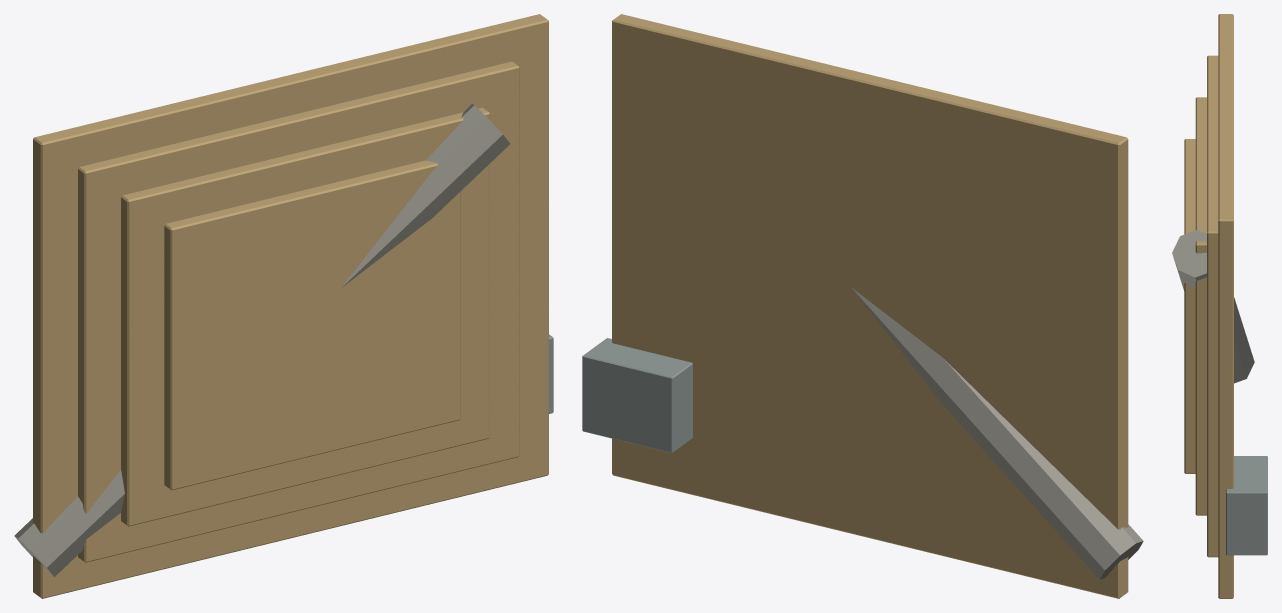
Rendered from stepped_quarry.glb.
The picture shows the model from 3 angles, left to right: view 1: azimuth 30°, elevation 25°; view 2: azimuth 150°, elevation 25°; view 3: azimuth 270°, elevation 25°; orthographic projection. The views are drawn at different scales.
Visible parts, largest first — view 1: quarry_bench.003, quarry_bench, quarry_bench.001, quarry_bench.002, haul_road; view 2: quarry_bench, haul_road, quarry_shed; view 3: quarry_bench, quarry_bench.001, quarry_bench.002, quarry_shed, quarry_bench.003, haul_road.
Part boxes in pixels (bbox=[...]): quarry_bench.003: bbox=[164, 160, 460, 490]; quarry_bench: bbox=[33, 14, 548, 598]; quarry_bench.001: bbox=[78, 61, 519, 562]; quarry_bench.002: bbox=[121, 107, 489, 526]; haul_road: bbox=[14, 104, 510, 577]; quarry_bench: bbox=[612, 14, 1128, 598]; haul_road: bbox=[851, 287, 1143, 579]; quarry_shed: bbox=[582, 338, 692, 452]; quarry_bench: bbox=[1218, 14, 1233, 598]; quarry_bench.001: bbox=[1207, 55, 1218, 557]; quarry_bench.002: bbox=[1195, 97, 1206, 515]; quarry_shed: bbox=[1226, 456, 1267, 555]; quarry_bench.003: bbox=[1184, 139, 1195, 473]; haul_road: bbox=[1172, 230, 1254, 383].
Bounding box in the file's own units: 29.34 × 24 × 5.5.
